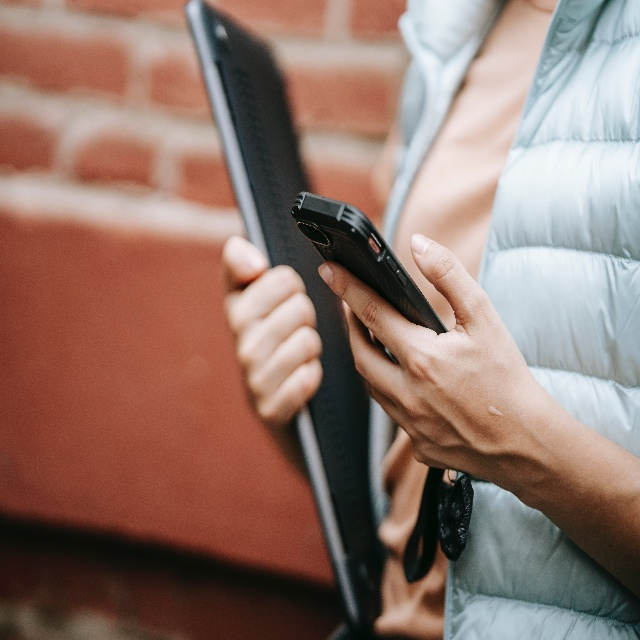Sin_guantes: (318, 232, 535, 490), (220, 236, 323, 436)
